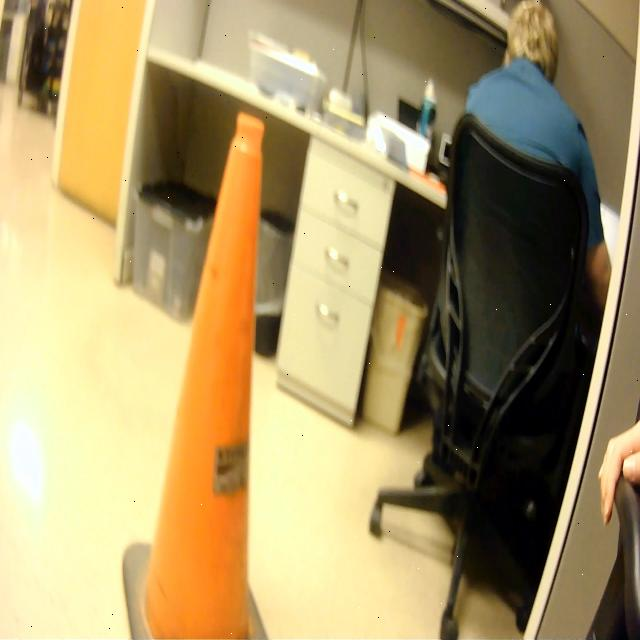traffic cone: (119, 105, 280, 640)
